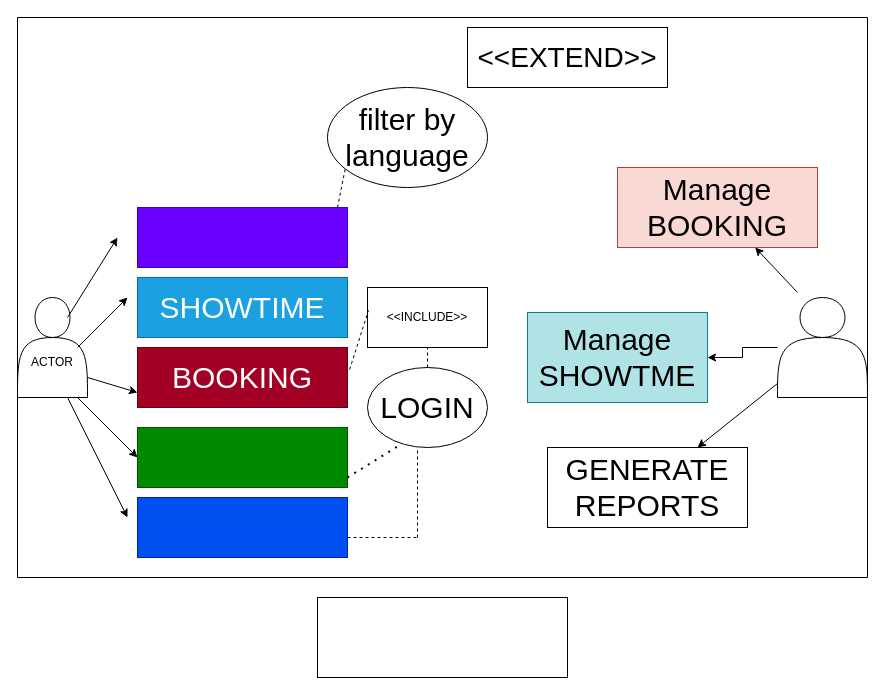
This 886x695 diagram has some shape labels left out. The centre of each missing label's shape, as x and y in pixels:
ADMIN: (822,347)
BOOK MY SHOW: (442,637)
CANCEL BOOKING: (242,527)
PAYMENT: (242,457)
SEARCH: (242,237)
